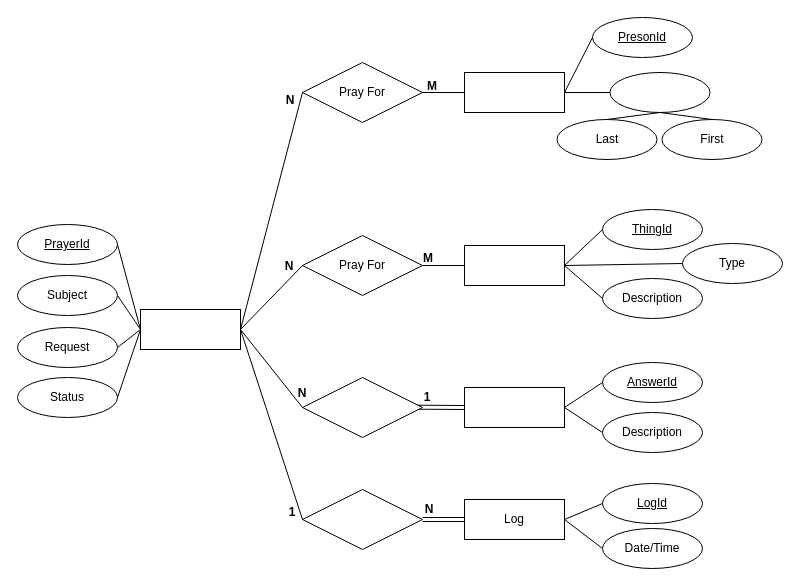
Some shapes in this 800 by 586 pixel diagram are drawn without their labels. The shapes that lost their labels are listed below. From the top down, each one's box as (x1, y1, x2, y2) in pixels, then its label:
(464, 72, 564, 112): Person
(609, 72, 710, 112): Name
(464, 244, 564, 286): Thing
(140, 308, 240, 350): Prayer
(302, 376, 422, 438): Answer To
(464, 386, 564, 428): Answer
(302, 488, 422, 550): Prayed On
